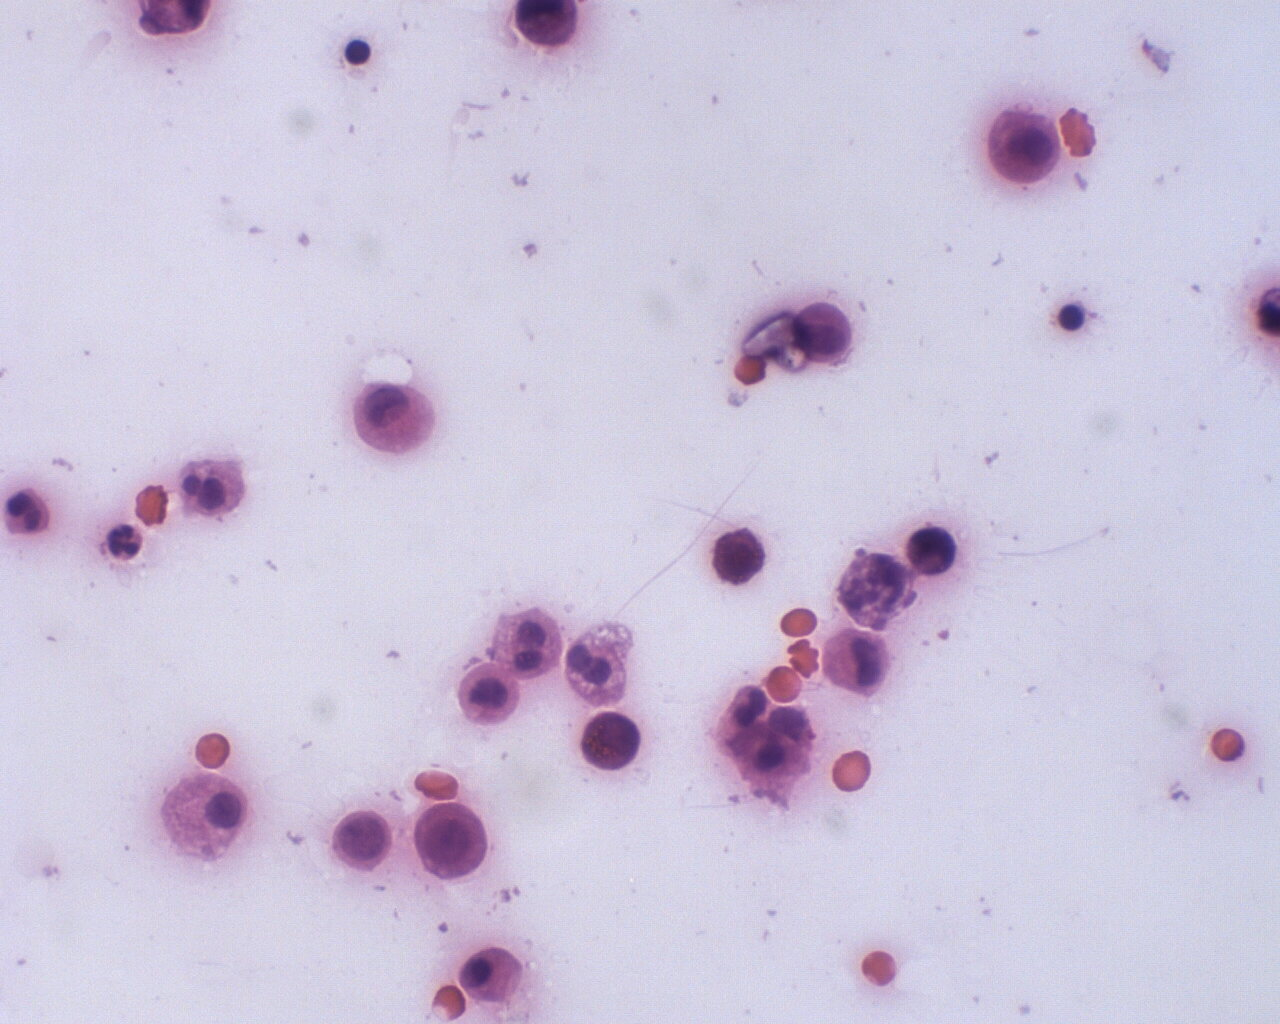ab: (410, 799, 491, 888), (579, 709, 644, 775), (332, 806, 394, 872), (711, 525, 766, 586), (904, 520, 959, 578)
normal: (159, 769, 250, 863), (349, 375, 443, 455), (985, 104, 1069, 187), (456, 659, 525, 731), (460, 945, 528, 1006), (104, 520, 146, 565), (340, 34, 378, 69), (1057, 300, 1086, 335)
